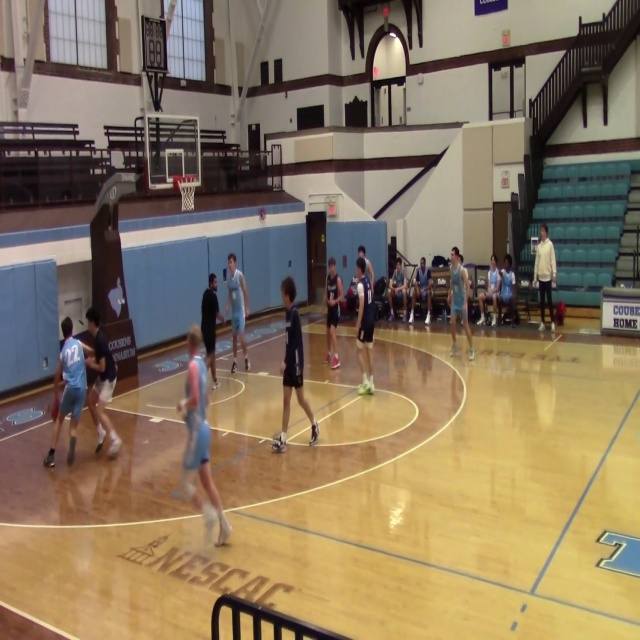Basketball: (185, 356, 208, 410)
